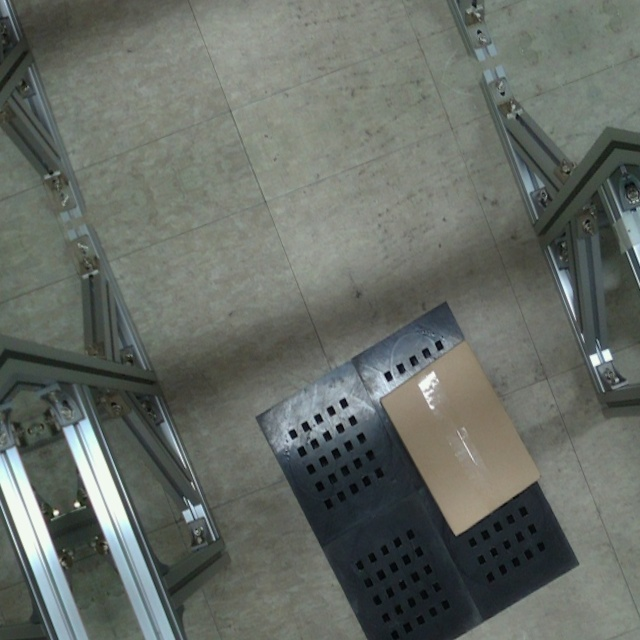box: (379, 337, 545, 539)
pallet: (239, 291, 591, 640)
